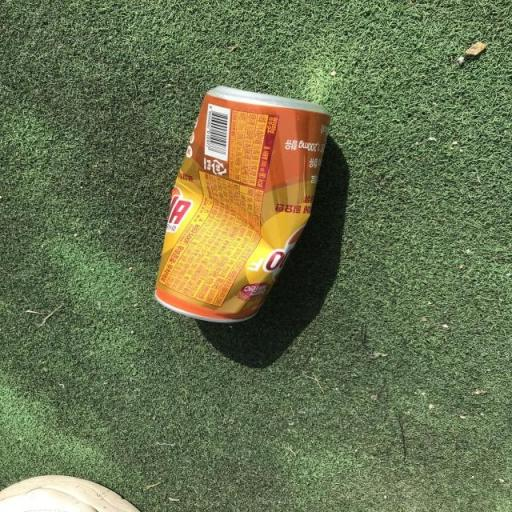metal: (134, 79, 344, 349)
